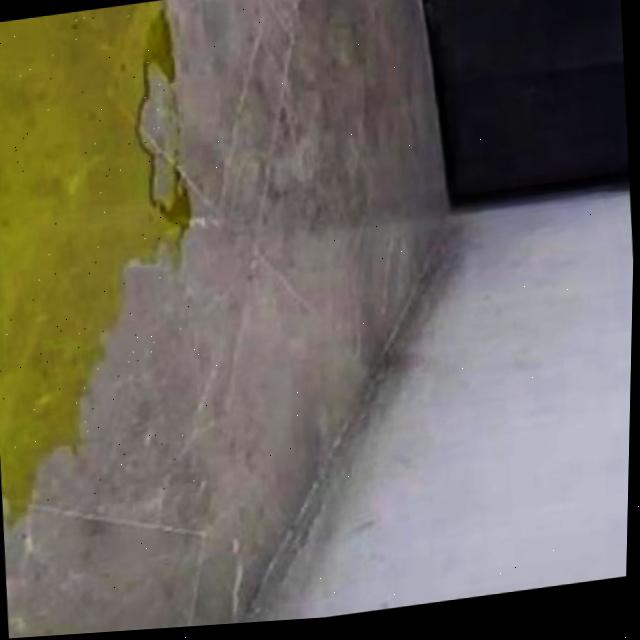spillage: (0, 2, 187, 518)
